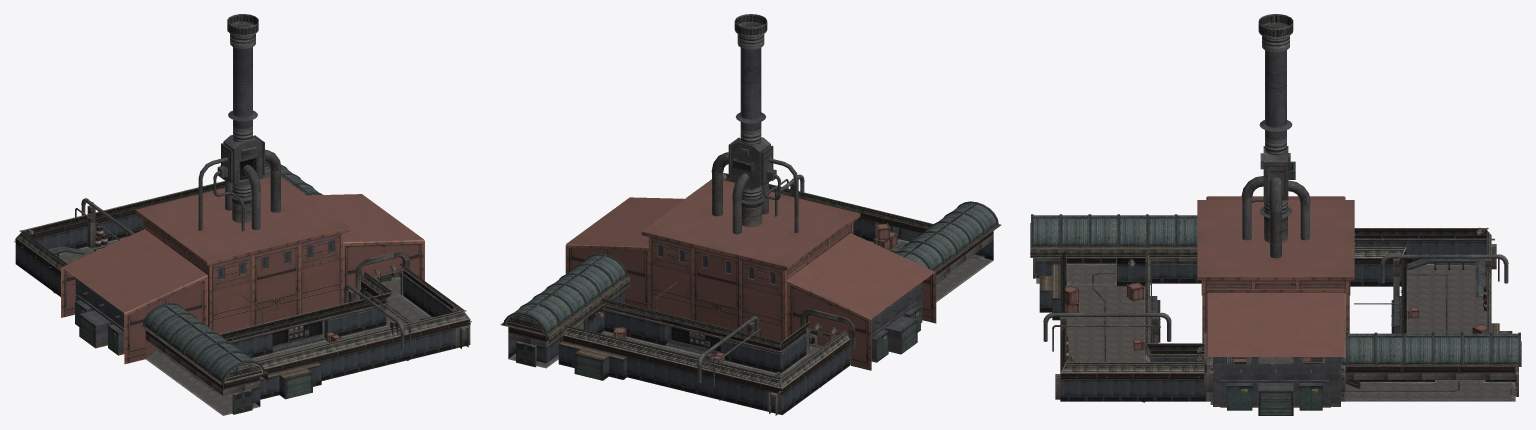
File: ColliderMesh.fbx
3 renders of one model, left to right at view 1: azimuth 30°, elevation 25°; view 2: azimuth 150°, elevation 25°; view 3: azimuth 270°, elevation 25°, orthographic. The views are drawn at different scales.
Visible parts, largest first — view 1: Room3, Room2, Chimney, Room4, Room1, walls2, detail2, fence2, walls1, GroundFrame4, fence1, pipes1 (+7 smaller); view 2: Room3, Room2, Chimney, Room5, walls1, detail1, Room1, Room4, fence1, GroundFrame3, pipes3, fence2 (+4 smaller); view 3: Room1, Room3, Room5, Room4, Chimney, GroundPiece2, GroundPiece4, walls2, fence2, detail2, GroundPiece3, fence1 (+9 smaller).
Boxes of the visible parts, bbox=[...] form: Room3: bbox=[135, 177, 350, 333]; Room2: bbox=[61, 229, 207, 364]; Chimney: bbox=[198, 14, 281, 231]; Room4: bbox=[140, 303, 267, 415]; Room1: bbox=[307, 194, 424, 303]; walls2: bbox=[231, 276, 466, 394]; detail2: bbox=[225, 270, 470, 399]; fence2: bbox=[219, 263, 469, 368]; walls1: bbox=[15, 214, 142, 291]; GroundFrame4: bbox=[251, 290, 470, 399]; fence1: bbox=[16, 181, 224, 270]; pipes1: bbox=[226, 271, 471, 354]; Room3: bbox=[641, 180, 860, 341]; Room2: bbox=[786, 233, 936, 370]; Chimney: bbox=[711, 14, 798, 234]; Room5: bbox=[500, 253, 630, 368]; walls1: bbox=[558, 310, 850, 409]; detail1: bbox=[558, 304, 850, 414]; Room1: bbox=[565, 197, 685, 308]; Room4: bbox=[895, 201, 1001, 302]; fence1: bbox=[562, 298, 849, 388]; GroundFrame3: bbox=[574, 322, 820, 415]; pipes3: bbox=[602, 282, 848, 393]; fence2: bbox=[685, 172, 933, 252]; Room1: bbox=[1204, 292, 1345, 415]; Room3: bbox=[1197, 200, 1354, 343]; Room5: bbox=[1341, 332, 1521, 401]; Room4: bbox=[1030, 214, 1201, 285]; Chimney: bbox=[1241, 14, 1310, 258]; GroundPiece2: bbox=[1065, 285, 1144, 361]; GroundPiece4: bbox=[1406, 266, 1485, 333]; walls2: bbox=[1039, 264, 1206, 396]; fence2: bbox=[1060, 250, 1204, 373]; detail2: bbox=[1039, 258, 1206, 401]; GroundPiece3: bbox=[1345, 381, 1510, 399]; fence1: bbox=[1354, 228, 1491, 333].
Size of the model in its own units: 66 by 57.75 by 82.24.
